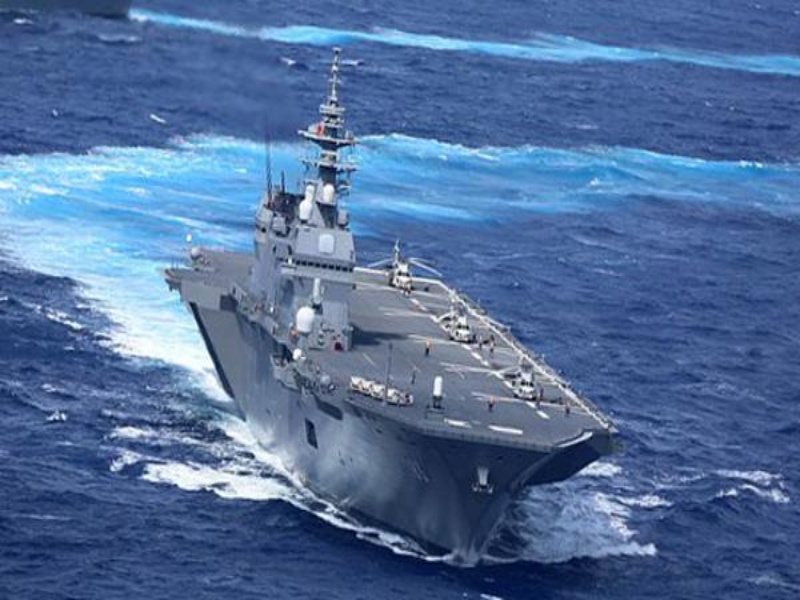carrier: (194, 111, 602, 574)
